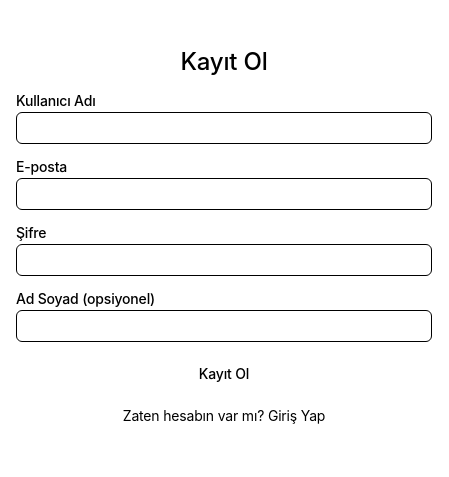
RegisterPage › 6 karakterden kısa şifrede hata göstermeli
Type "123" into the password field labelled "Şifre".
click(224, 260); type("123")  # box [16, 244, 432, 276]
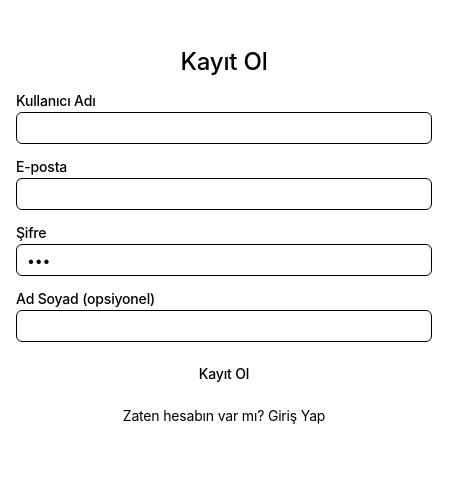
Click the button "Kayıt Ol".
click(224, 374)  # box [16, 358, 432, 390]
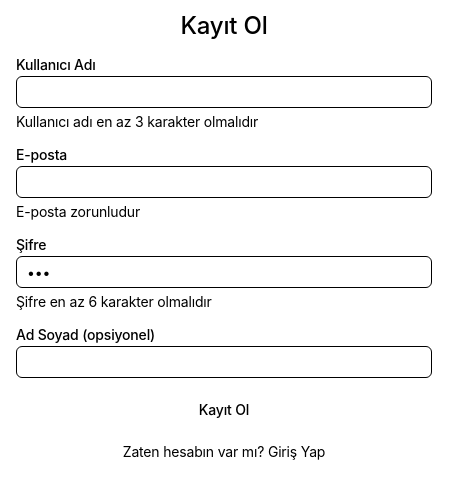
expect the text "Şifre en az 6 karakter olmalıdır" is shown: met, box [16, 293, 212, 310]
